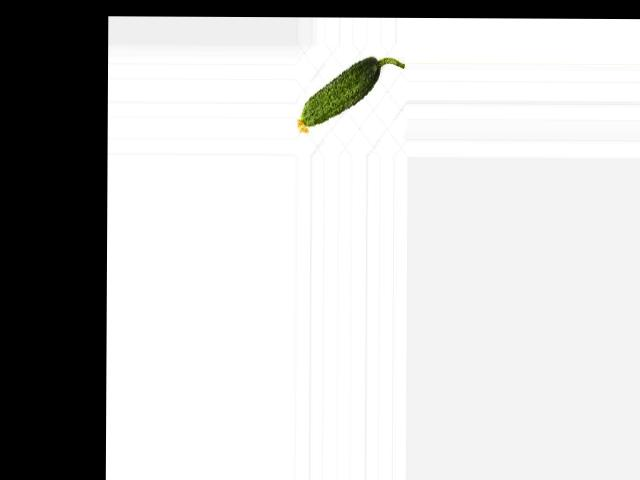cucumber: (296, 56, 403, 134)
